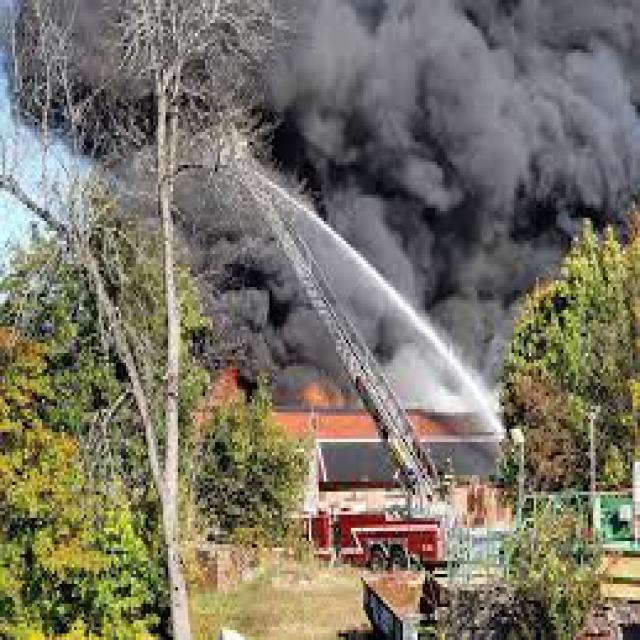Smoke: (189, 4, 627, 410)
